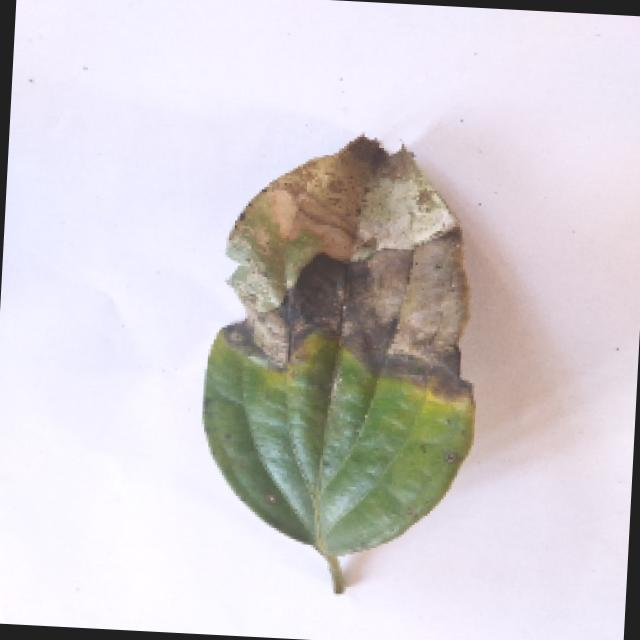footrot: (181, 131, 512, 604)
